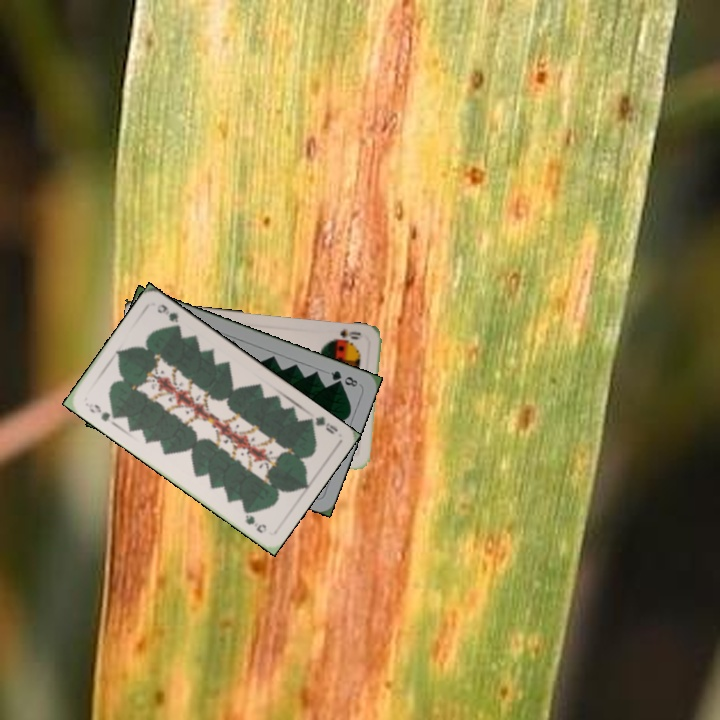G8: (326, 366, 360, 389)
G9: (302, 412, 340, 437), (83, 399, 120, 424)
SO: (326, 325, 363, 344)
